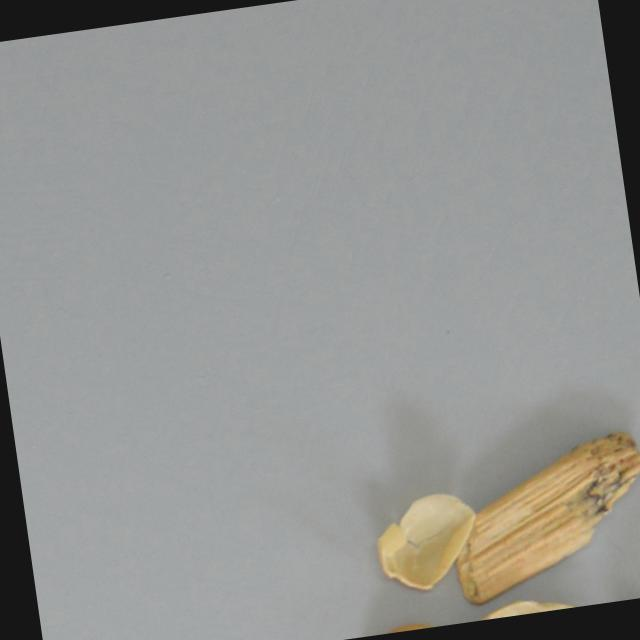cuerpos_extranos: (442, 430, 640, 607), (369, 487, 487, 600), (437, 592, 592, 626), (356, 609, 451, 638)
